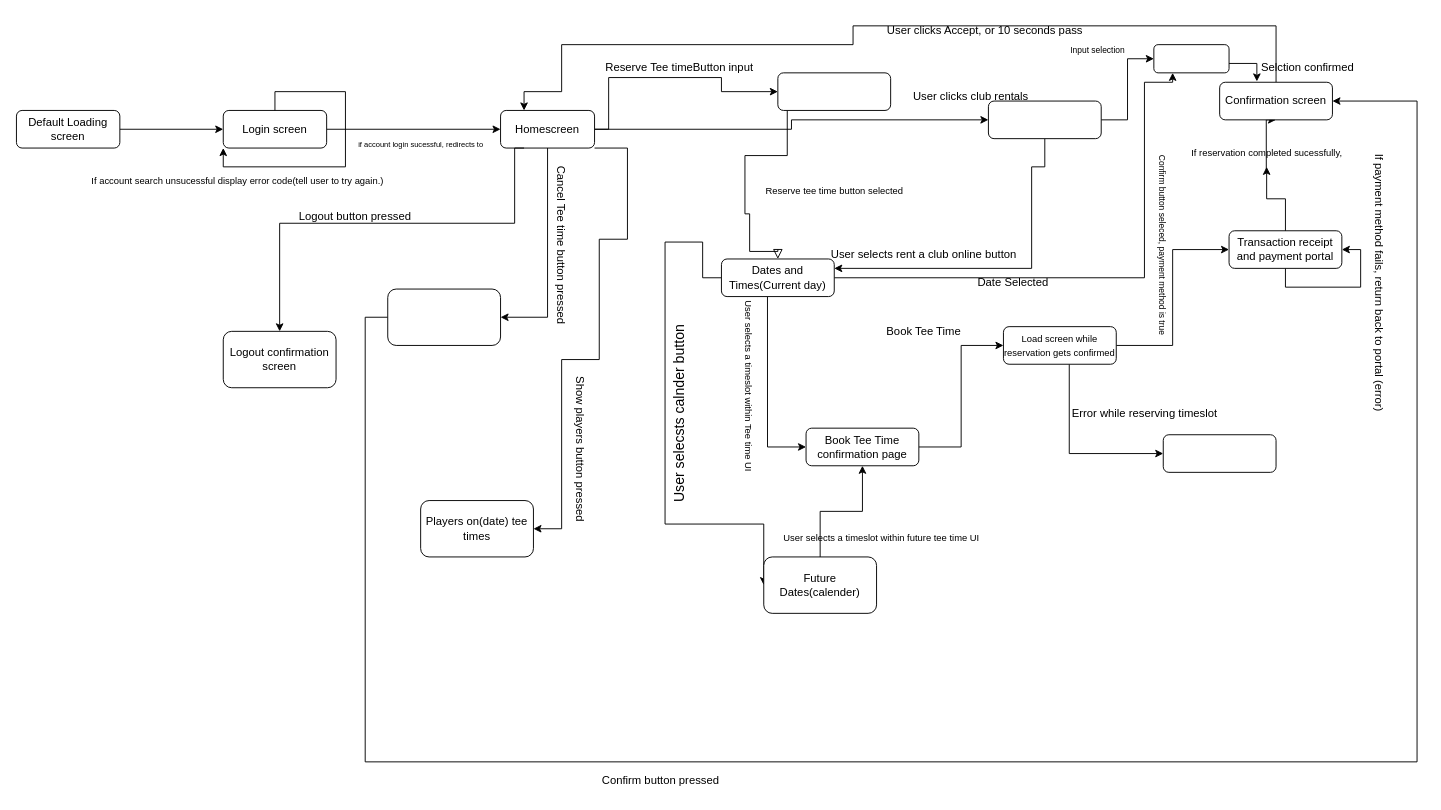
This 1441x810 diagram has some shape labels left out. Each missing label, with the centre of its shape:
Cancel tee time scheduled page confirmation: pixel 444 316
Error message, Reservation unavailable(reason): pixel 1219 453
Rent a club: pixel 1044 119
Rent Club UI screen: pixel 1191 58
Reservation Tee time page: pixel 834 91
